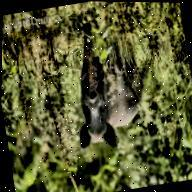boar: (59, 15, 164, 155)
